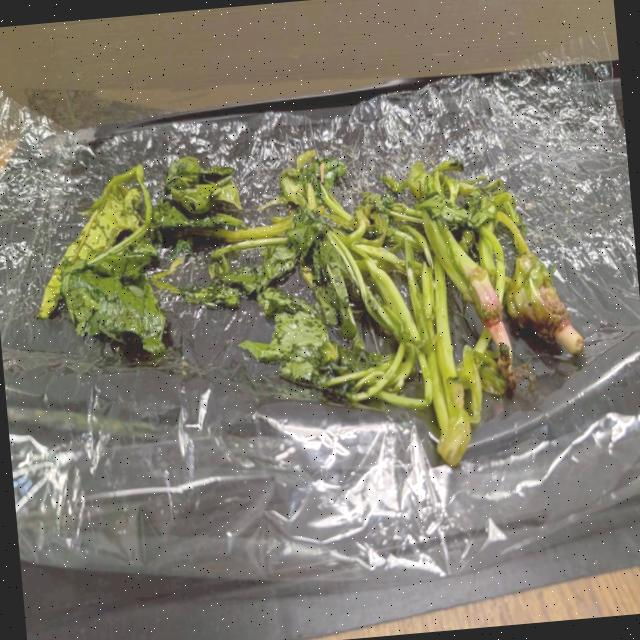rotten spinach: (37, 108, 596, 482), (182, 112, 372, 447), (42, 130, 247, 388), (343, 171, 507, 471), (412, 121, 576, 387)
